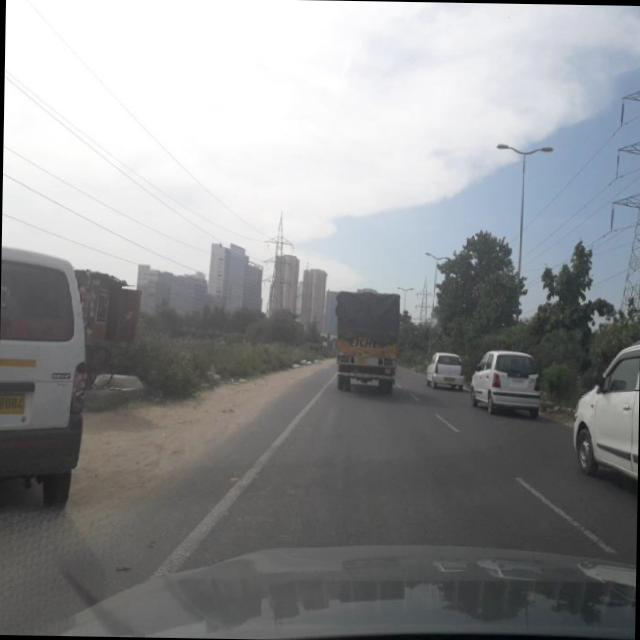crack: (202, 418, 566, 558)
